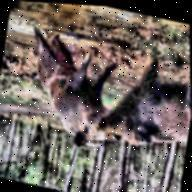boar: (19, 8, 128, 164), (93, 59, 192, 172)
